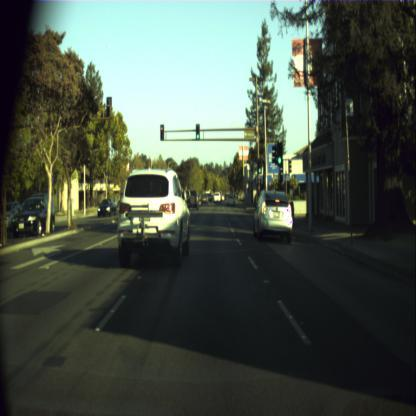Green: (276, 142, 282, 165), (196, 124, 199, 140), (258, 158, 261, 173)
RedLeft: (160, 124, 164, 140)
